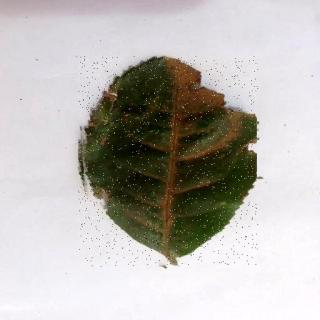Algal Leaf: (80, 57, 260, 268)
